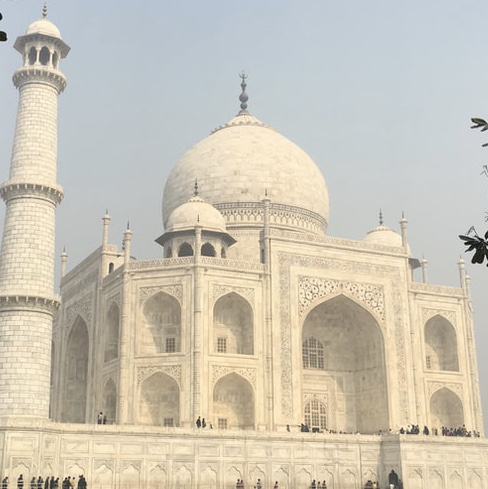Mosque: (9, 9, 487, 469)
